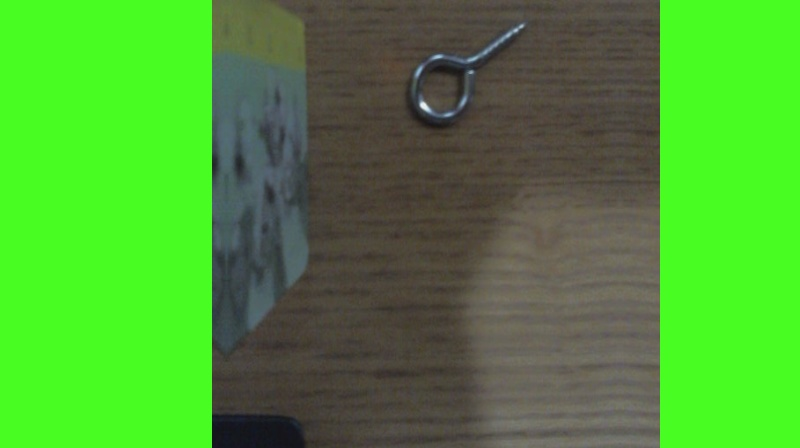O001: (405, 11, 533, 129)
